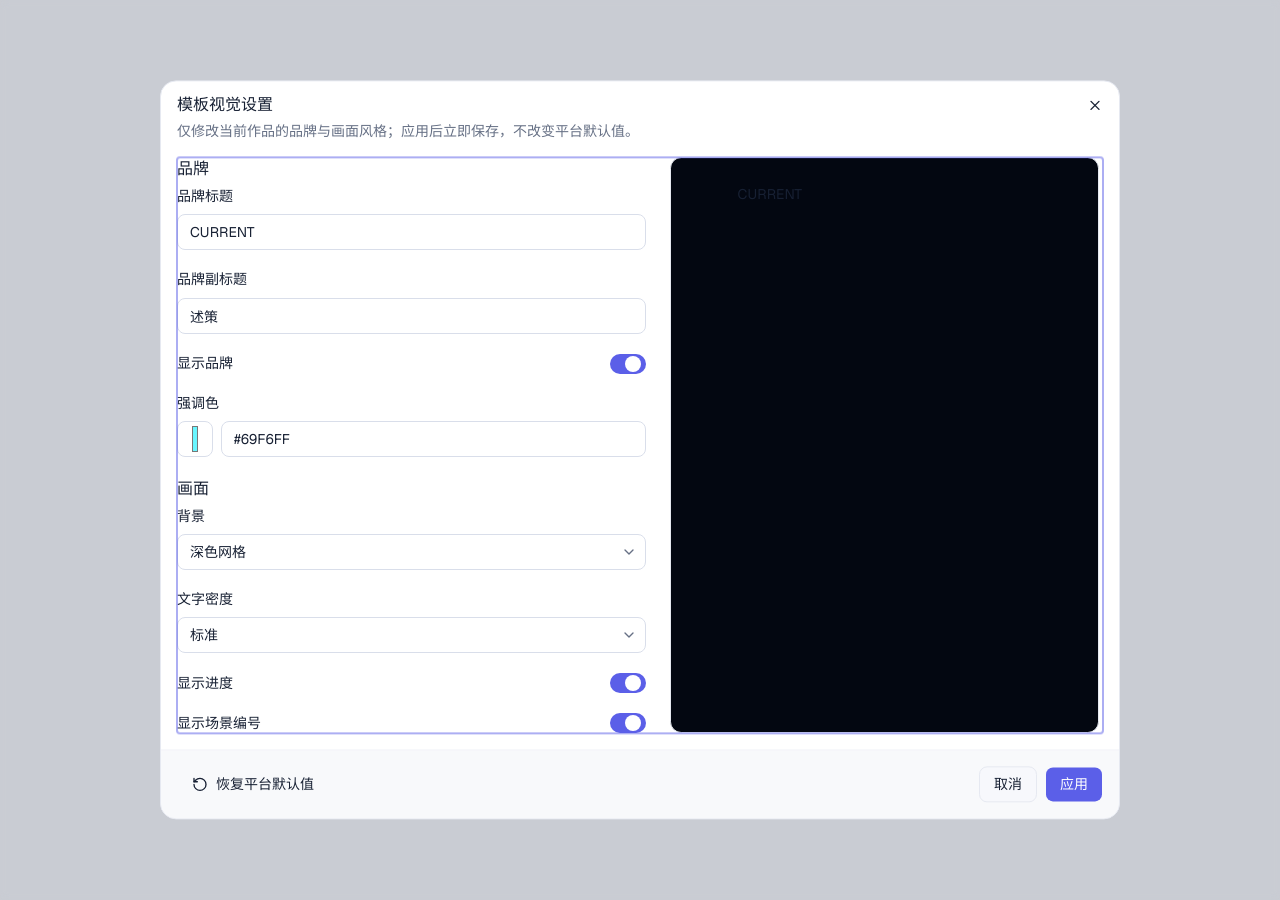
Test case: TemplateSettingsDialog › restores the current platform entry into the draft without saving
The image size is (1280, 900).
expect the button "恢复平台默认值" is enabled: met, box top-left (177, 767), bottom-right (329, 803)
Replace the text in the field labelled "品牌标题" with "LOCAL DRAFT" at (411, 233), box top-left (177, 215), bottom-right (646, 251)
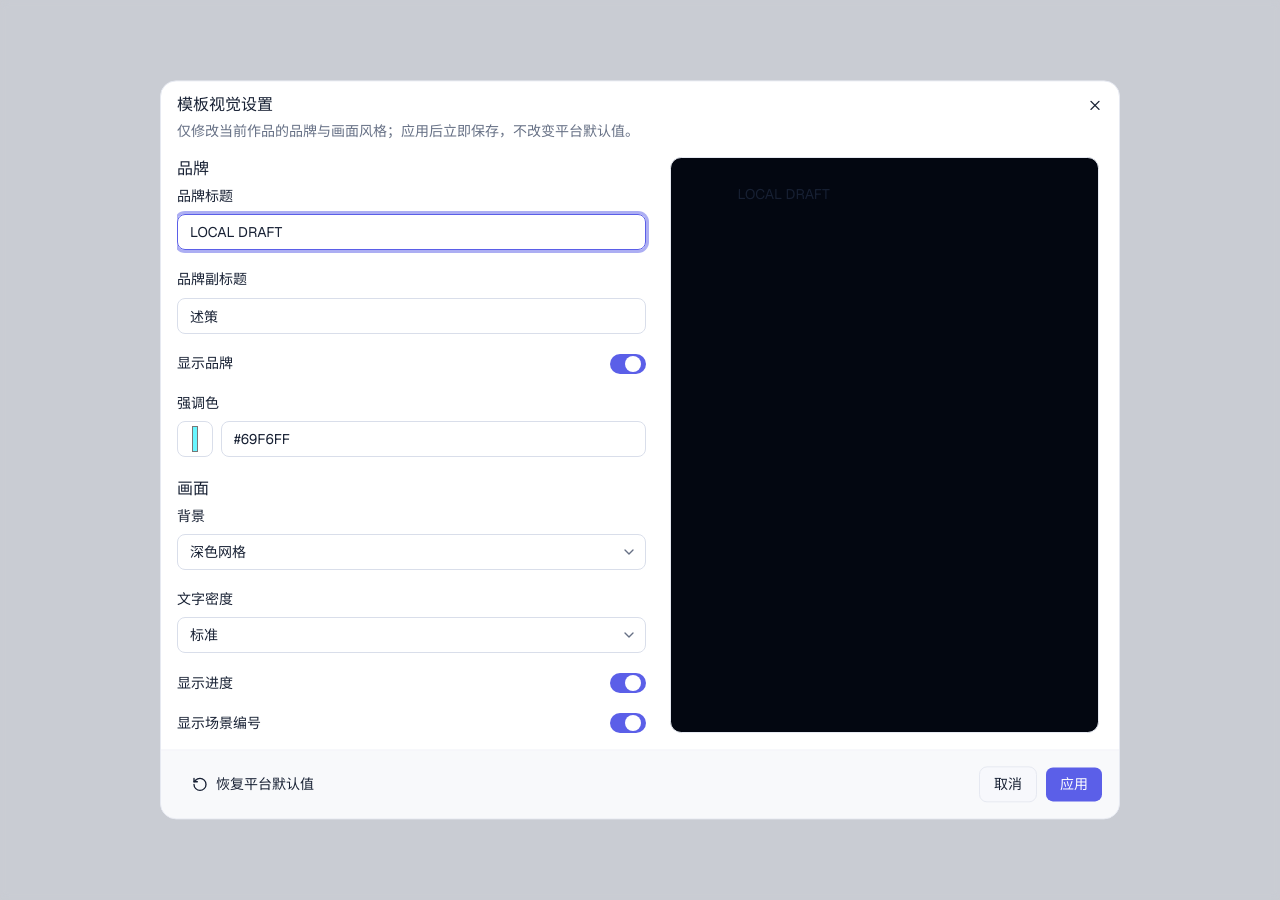
Click the button "恢复平台默认值".
click(253, 785)  # box top-left (177, 767), bottom-right (329, 803)
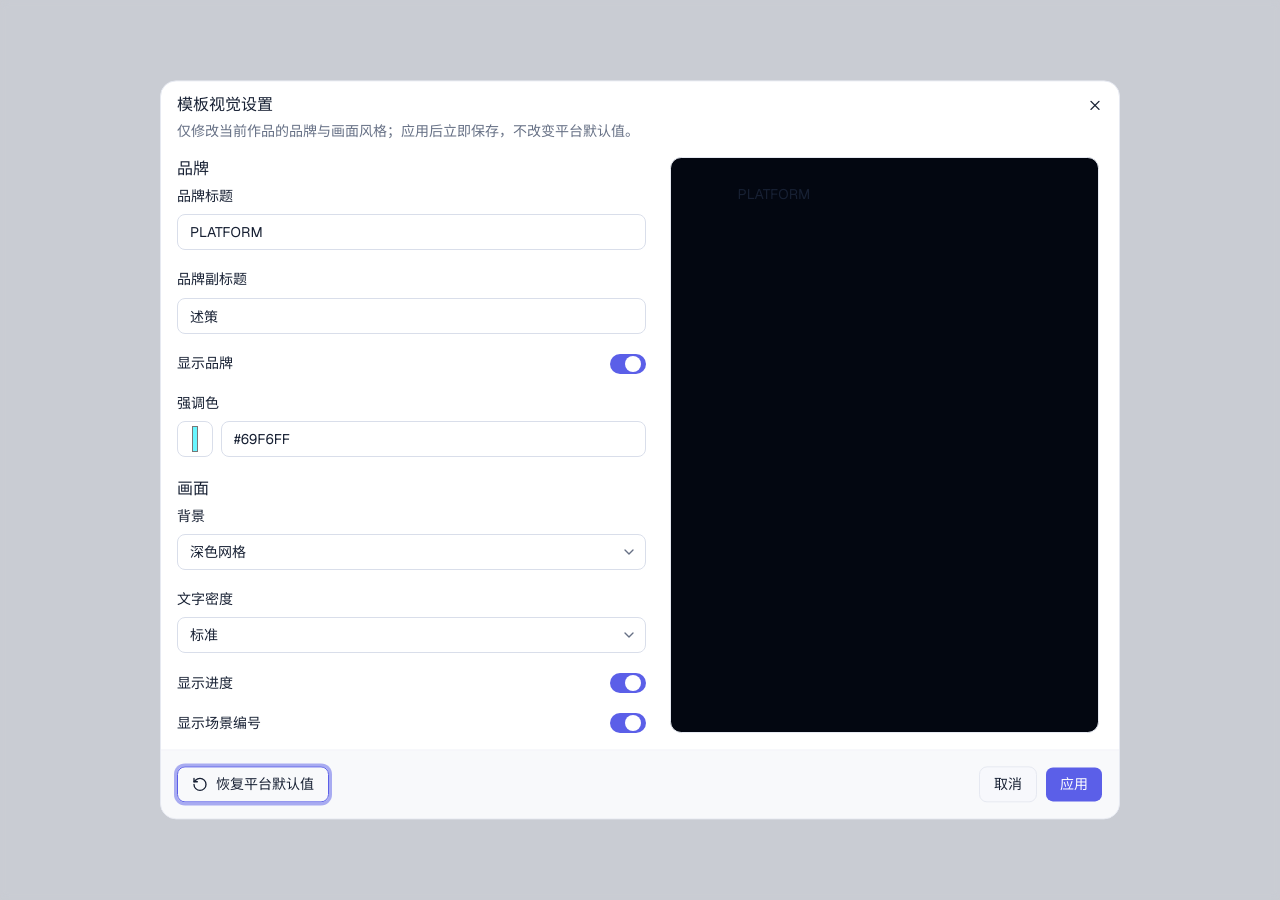
expect the field labelled "品牌标题" holds "PLATFORM": met, box top-left (177, 215), bottom-right (646, 251)
expect the text with test id "template-draft-preview" reads "PLATFORM": met, box top-left (738, 186), bottom-right (810, 204)
